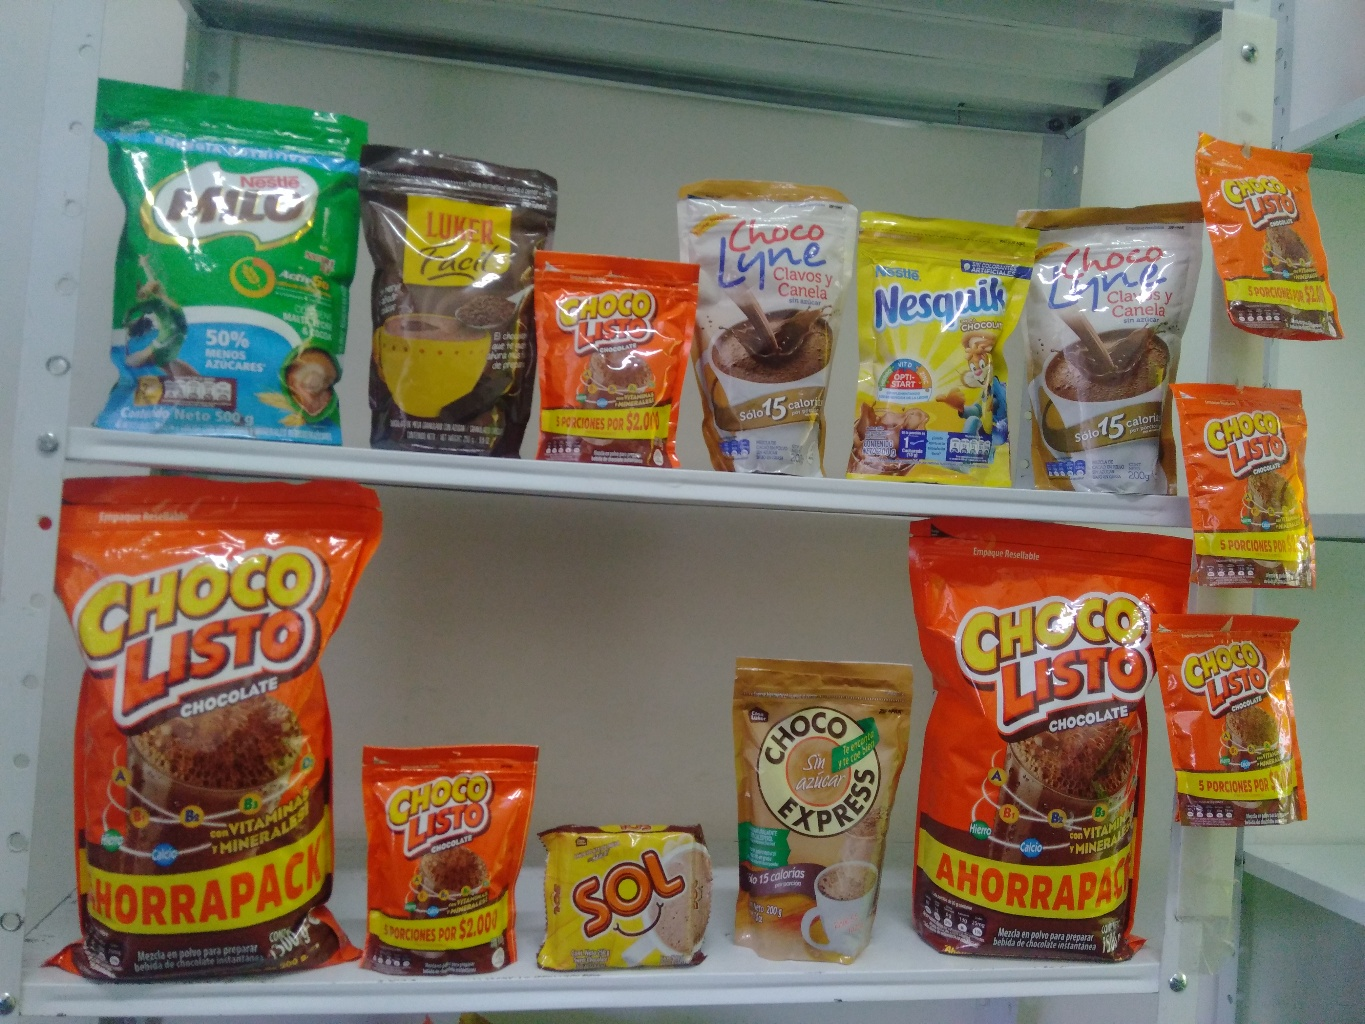COL0170103DYP1,500: (41, 475, 387, 986)
COL0170205DYP50000: (91, 75, 372, 443)
COL0170303DYP20000: (859, 208, 1038, 485)
